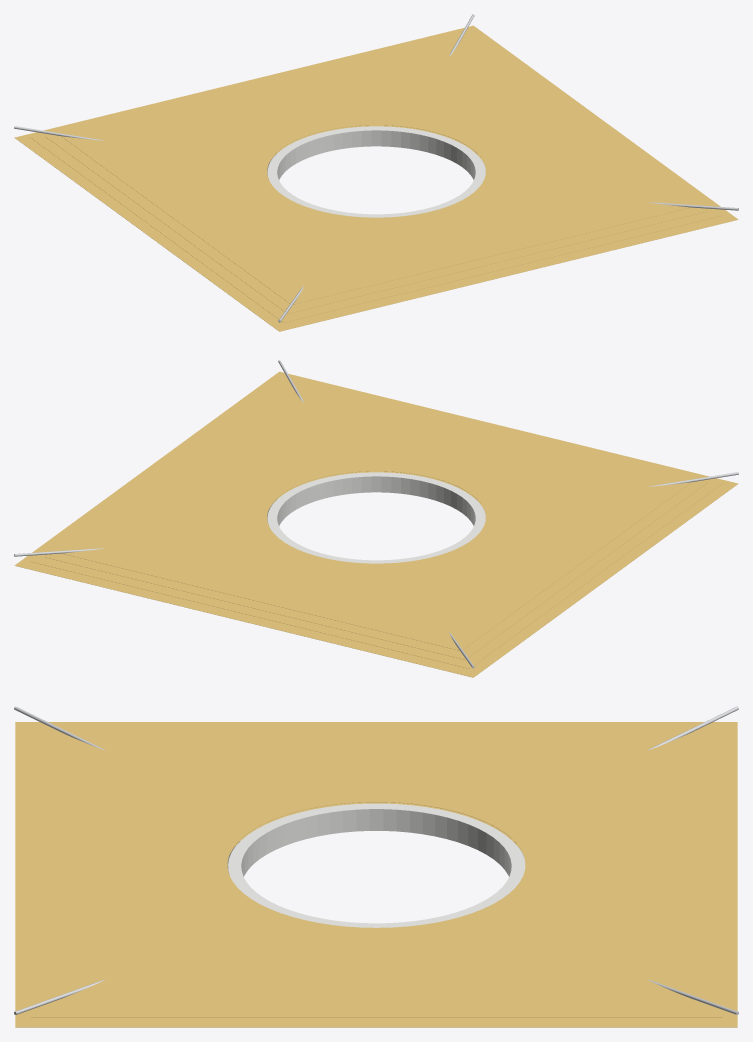
File: ax_util_30_sunshade_xl_deployed.glb
The picture shows the model from 3 angles, top to bottom: view 1: azimuth 30°, elevation 25°; view 2: azimuth 150°, elevation 25°; view 3: azimuth 270°, elevation 25°; orthographic projection. The views are drawn at different scales.
Visible parts, largest first — view 1: membrane_layers, canister_ring, booms; view 2: membrane_layers, canister_ring, booms; view 3: membrane_layers, canister_ring, booms.
Boxes of the visible parts, box(x1,y1,x2,y2) form: membrane_layers: box(14, 25, 738, 331); canister_ring: box(267, 126, 485, 217); booms: box(14, 14, 738, 322); membrane_layers: box(14, 371, 738, 677); canister_ring: box(267, 472, 485, 563); booms: box(14, 360, 738, 668); membrane_layers: box(15, 722, 737, 1027); canister_ring: box(227, 803, 525, 927); booms: box(14, 706, 738, 1014).
Bounding box in the file's own units: 12.06 × 0.53 × 12.06.
